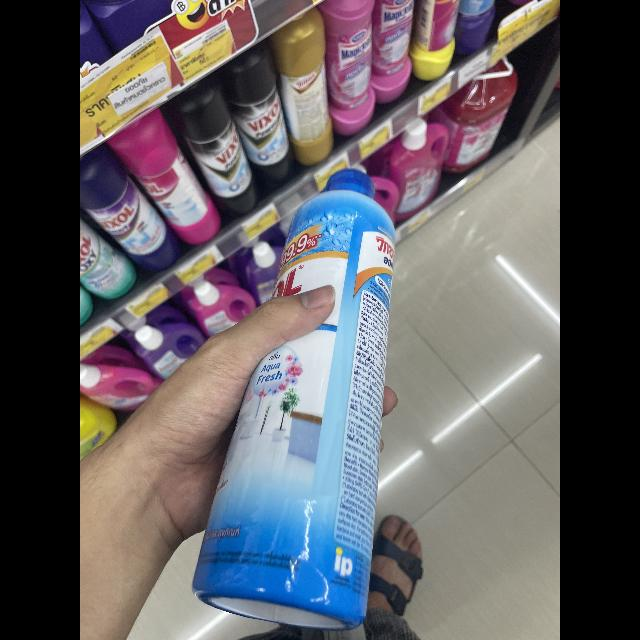chemical_plastic_bottle: (179, 162, 401, 628)
